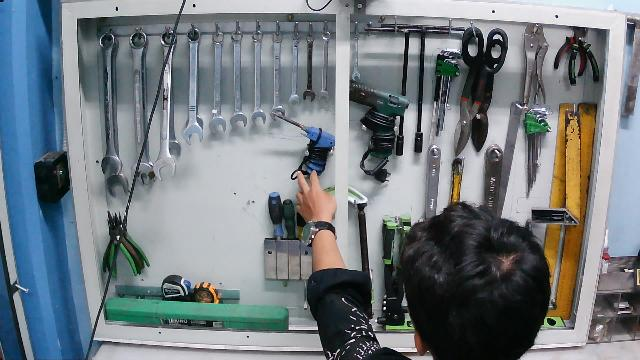solder_electrical: (272, 109, 335, 181)
